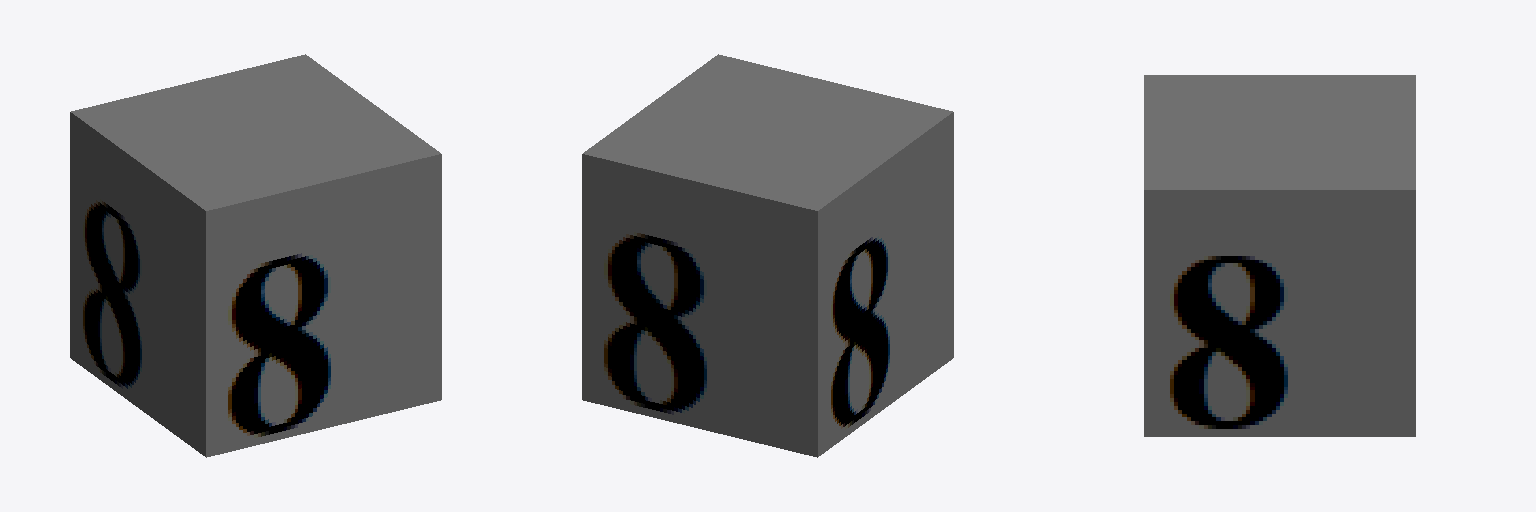
3 renders of one model, left to right at view 1: azimuth 30°, elevation 25°; view 2: azimuth 150°, elevation 25°; view 3: azimuth 270°, elevation 25°, orthographic.
Bounding box in the file's own units: 1 × 1 × 1.
1 materials, 1 textured.